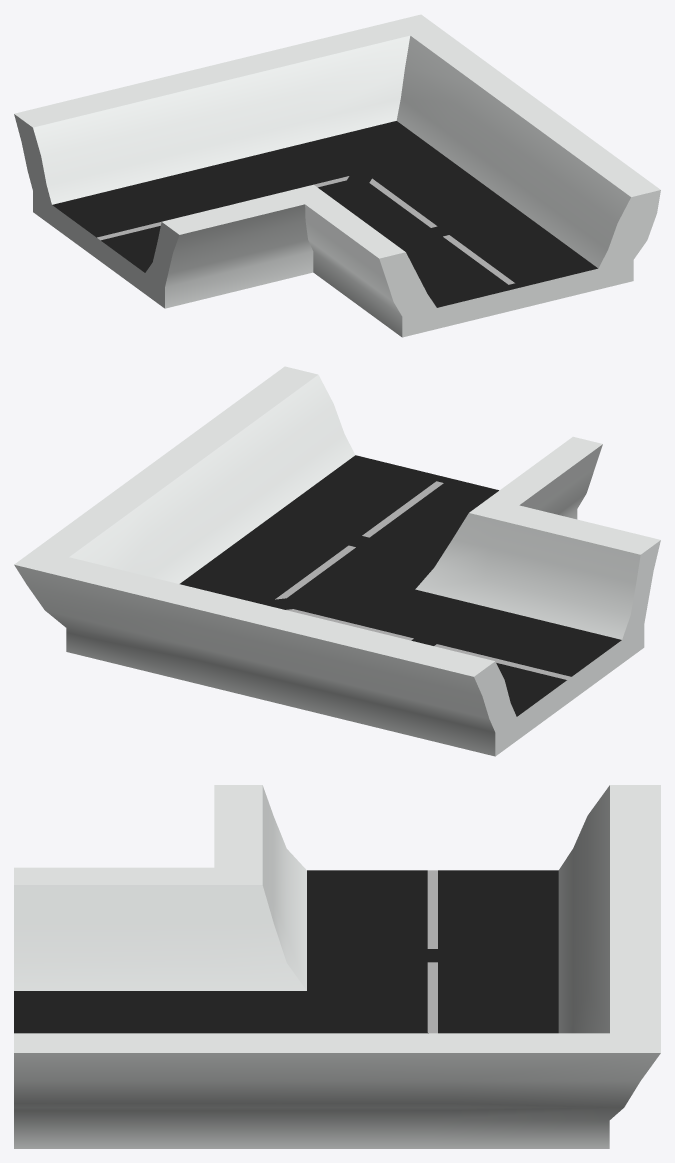
Rendered from duong cua vuong.fbx.
The picture shows the model from 3 angles, top to bottom: view 1: azimuth 30°, elevation 25°; view 2: azimuth 150°, elevation 25°; view 3: azimuth 270°, elevation 25°; orthographic projection. The views are drawn at different scales.
Visible parts, largest first — view 1: duong_cua_vuong; view 2: duong_cua_vuong; view 3: duong_cua_vuong.
Part boxes in pixels (<box>): duong_cua_vuong: <box>14,14,660,337</box>; duong_cua_vuong: <box>14,366,660,756</box>; duong_cua_vuong: <box>14,785,660,1148</box>.
Bounding box in the file's own units: 30.26 × 6 × 30.87.
Materials: 1 (1 with a texture image).
